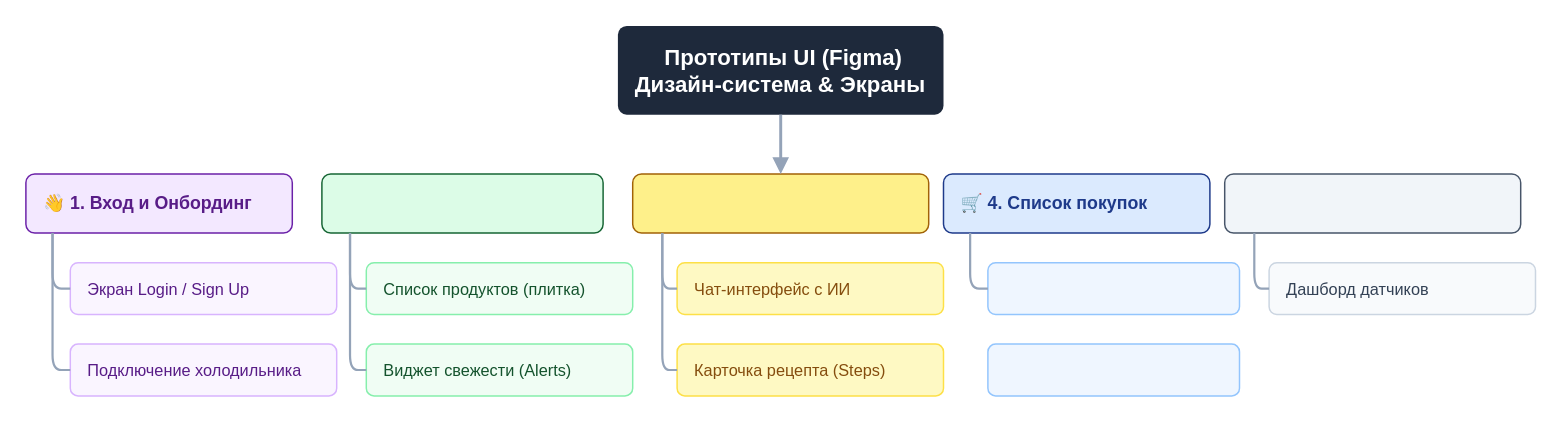
This 1561x422 diagram has some shape labels left out. Here are the shapes that lost their labels. From the top down, the centre of each, then its label:
the point at 461,202: 🏠 2. Главная (Inventory)
the point at 780,202: 🤖 3. AI Ассистент
the point at 1372,202: ⚙️ 5. Управление и t°
the point at 1113,287: Интерактивный Check-list
the point at 1113,369: Интеграция с доставкой
